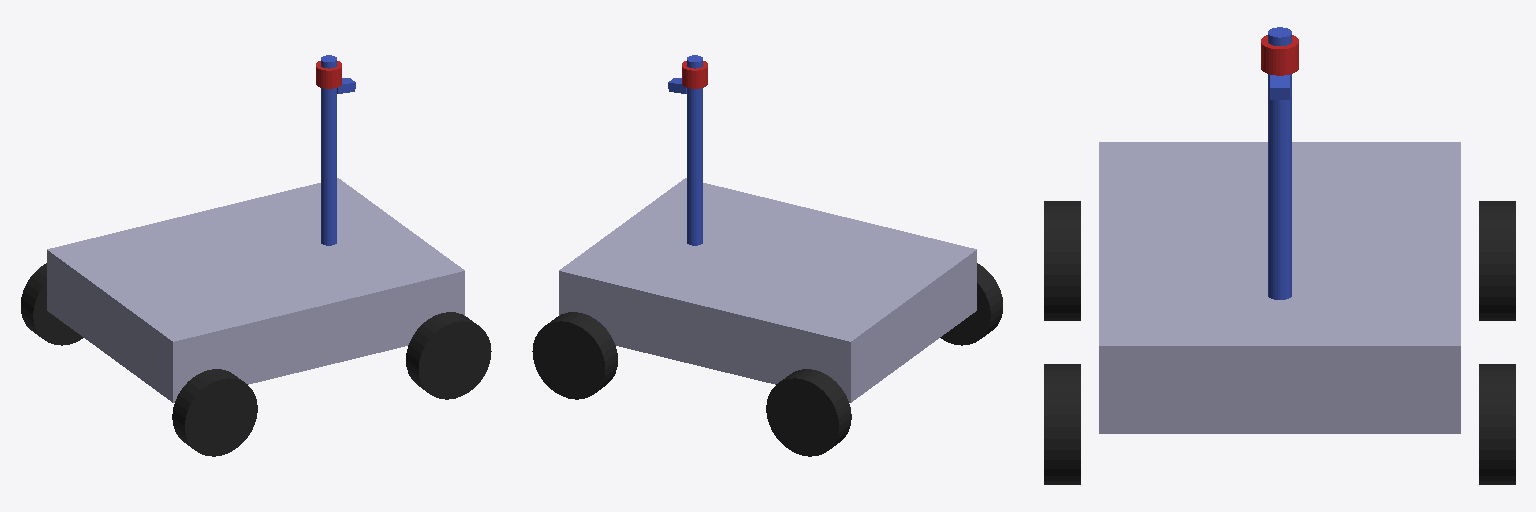
The robot description file, URDF, robot "nasa_lunar_rover":
<?xml version="1.0"?>
<robot name="nasa_lunar_rover">

  <!-- Materials -->
  <material name="rover_grey">
    <color rgba="0.7 0.7 0.8 1"/>
  </material>
  
  <material name="rover_blue">
    <color rgba="0.3 0.4 0.8 1"/>
  </material>
  
  <material name="wheel_black">
    <color rgba="0.2 0.2 0.2 1"/>
  </material>
  
  <material name="sensor_red">
    <color rgba="0.8 0.2 0.2 1"/>
  </material>

  <!-- Main Chassis -->
  <link name="base_link">
    <visual>
      <origin xyz="0 0 0.1" rpy="0 0 0"/>
      <geometry>
        <box size="2.0 1.5 0.4"/>
      </geometry>
      <material name="rover_grey"/>
    </visual>
    
    <collision>
      <origin xyz="0 0 0.1" rpy="0 0 0"/>
      <geometry>
        <box size="2.0 1.5 0.4"/>
      </geometry>
    </collision>
    
    <inertial>
      <origin xyz="0 0 0.1" rpy="0 0 0"/>
      <mass value="150"/>
      <inertia ixx="15.0" ixy="0" ixz="0" iyy="25.0" iyz="0" izz="35.0"/>
    </inertial>
  </link>

  <!-- Sensor Mast -->
  <link name="sensor_mast">
    <visual>
      <origin xyz="0 0 0.6" rpy="0 0 0"/>
      <geometry>
        <cylinder radius="0.05" length="1.2"/>
      </geometry>
      <material name="rover_blue"/>
    </visual>
    
    <collision>
      <origin xyz="0 0 0.6" rpy="0 0 0"/>
      <geometry>
        <cylinder radius="0.05" length="1.2"/>
      </geometry>
    </collision>
    
    <inertial>
      <origin xyz="0 0 0.6" rpy="0 0 0"/>
      <mass value="8"/>
      <inertia ixx="1.0" ixy="0" ixz="0" iyy="1.0" iyz="0" izz="0.1"/>
    </inertial>
  </link>

  <joint name="mast_joint" type="fixed">
    <parent link="base_link"/>
    <child link="sensor_mast"/>
    <origin xyz="0.5 0 0.3" rpy="0 0 0"/>
  </joint>

  <!-- LiDAR Sensor -->
  <link name="lidar_link">
    <visual>
      <origin xyz="0 0 0" rpy="0 0 0"/>
      <geometry>
        <cylinder radius="0.08" length="0.12"/>
      </geometry>
      <material name="sensor_red"/>
    </visual>
    
    <collision>
      <origin xyz="0 0 0" rpy="0 0 0"/>
      <geometry>
        <cylinder radius="0.08" length="0.12"/>
      </geometry>
    </collision>
    
    <inertial>
      <origin xyz="0 0 0" rpy="0 0 0"/>
      <mass value="2"/>
      <inertia ixx="0.1" ixy="0" ixz="0" iyy="0.1" iyz="0" izz="0.1"/>
    </inertial>
  </link>

  <joint name="lidar_joint" type="fixed">
    <parent link="sensor_mast"/>
    <child link="lidar_link"/>
    <origin xyz="0 0 1.1" rpy="0 0 0"/>
  </joint>

  <!-- RGB-D Camera -->
  <link name="camera_link">
    <visual>
      <origin xyz="0 0 0" rpy="0 0 0"/>
      <geometry>
        <box size="0.12 0.08 0.06"/>
      </geometry>
      <material name="rover_blue"/>
    </visual>
    
    <collision>
      <origin xyz="0 0 0" rpy="0 0 0"/>
      <geometry>
        <box size="0.12 0.08 0.06"/>
      </geometry>
    </collision>
    
    <inertial>
      <origin xyz="0 0 0" rpy="0 0 0"/>
      <mass value="1"/>
      <inertia ixx="0.05" ixy="0" ixz="0" iyy="0.05" iyz="0" izz="0.05"/>
    </inertial>
  </link>

  <joint name="camera_joint" type="fixed">
    <parent link="sensor_mast"/>
    <child link="camera_link"/>
    <origin xyz="0.1 0 1.0" rpy="0 0.1 0"/>
  </joint>

  <!-- IMU Sensor -->
  <link name="imu_link">
    <visual>
      <origin xyz="0 0 0" rpy="0 0 0"/>
      <geometry>
        <box size="0.04 0.04 0.02"/>
      </geometry>
      <material name="sensor_red"/>
    </visual>
    
    <inertial>
      <origin xyz="0 0 0" rpy="0 0 0"/>
      <mass value="0.1"/>
      <inertia ixx="0.001" ixy="0" ixz="0" iyy="0.001" iyz="0" izz="0.001"/>
    </inertial>
  </link>

  <joint name="imu_joint" type="fixed">
    <parent link="base_link"/>
    <child link="imu_link"/>
    <origin xyz="0 0 0.25" rpy="0 0 0"/>
  </joint>

  <!-- Wheels -->
  <link name="front_left_wheel">
    <visual>
      <origin xyz="0 0 0" rpy="1.5708 0 0"/>
      <geometry>
        <cylinder radius="0.25" length="0.15"/>
      </geometry>
      <material name="wheel_black"/>
    </visual>
    
    <collision>
      <origin xyz="0 0 0" rpy="1.5708 0 0"/>
      <geometry>
        <cylinder radius="0.25" length="0.15"/>
      </geometry>
    </collision>
    
    <inertial>
      <origin xyz="0 0 0" rpy="1.5708 0 0"/>
      <mass value="12"/>
      <inertia ixx="0.5" ixy="0" ixz="0" iyy="0.5" iyz="0" izz="0.5"/>
    </inertial>
  </link>

  <joint name="front_left_wheel_joint" type="continuous">
    <parent link="base_link"/>
    <child link="front_left_wheel"/>
    <origin xyz="0.8 0.9 -0.15" rpy="0 0 0"/>
    <axis xyz="0 1 0"/>
  </joint>

  <link name="front_right_wheel">
    <visual>
      <origin xyz="0 0 0" rpy="1.5708 0 0"/>
      <geometry>
        <cylinder radius="0.25" length="0.15"/>
      </geometry>
      <material name="wheel_black"/>
    </visual>
    
    <collision>
      <origin xyz="0 0 0" rpy="1.5708 0 0"/>
      <geometry>
        <cylinder radius="0.25" length="0.15"/>
      </geometry>
    </collision>
    
    <inertial>
      <origin xyz="0 0 0" rpy="1.5708 0 0"/>
      <mass value="12"/>
      <inertia ixx="0.5" ixy="0" ixz="0" iyy="0.5" iyz="0" izz="0.5"/>
    </inertial>
  </link>

  <joint name="front_right_wheel_joint" type="continuous">
    <parent link="base_link"/>
    <child link="front_right_wheel"/>
    <origin xyz="0.8 -0.9 -0.15" rpy="0 0 0"/>
    <axis xyz="0 1 0"/>
  </joint>

  <link name="rear_left_wheel">
    <visual>
      <origin xyz="0 0 0" rpy="1.5708 0 0"/>
      <geometry>
        <cylinder radius="0.25" length="0.15"/>
      </geometry>
      <material name="wheel_black"/>
    </visual>
    
    <collision>
      <origin xyz="0 0 0" rpy="1.5708 0 0"/>
      <geometry>
        <cylinder radius="0.25" length="0.15"/>
      </geometry>
    </collision>
    
    <inertial>
      <origin xyz="0 0 0" rpy="1.5708 0 0"/>
      <mass value="12"/>
      <inertia ixx="0.5" ixy="0" ixz="0" iyy="0.5" iyz="0" izz="0.5"/>
    </inertial>
  </link>

  <joint name="rear_left_wheel_joint" type="continuous">
    <parent link="base_link"/>
    <child link="rear_left_wheel"/>
    <origin xyz="-0.8 0.9 -0.15" rpy="0 0 0"/>
    <axis xyz="0 1 0"/>
  </joint>

  <link name="rear_right_wheel">
    <visual>
      <origin xyz="0 0 0" rpy="1.5708 0 0"/>
      <geometry>
        <cylinder radius="0.25" length="0.15"/>
      </geometry>
      <material name="wheel_black"/>
    </visual>
    
    <collision>
      <origin xyz="0 0 0" rpy="1.5708 0 0"/>
      <geometry>
        <cylinder radius="0.25" length="0.15"/>
      </geometry>
    </collision>
    
    <inertial>
      <origin xyz="0 0 0" rpy="1.5708 0 0"/>
      <mass value="12"/>
      <inertia ixx="0.5" ixy="0" ixz="0" iyy="0.5" iyz="0" izz="0.5"/>
    </inertial>
  </link>

  <joint name="rear_right_wheel_joint" type="continuous">
    <parent link="base_link"/>
    <child link="rear_right_wheel"/>
    <origin xyz="-0.8 -0.9 -0.15" rpy="0 0 0"/>
    <axis xyz="0 1 0"/>
  </joint>

  <!-- Gazebo Plugins -->
  
  <!-- Differential Drive Controller -->
  <gazebo>
    <plugin name="skid_steer_drive_controller" filename="libgazebo_ros_skid_steer_drive.so">
      <update_rate>50.0</update_rate>
      <robot_namespace>/</robot_namespace>
      <left_front_joint>front_left_wheel_joint</left_front_joint>
      <right_front_joint>front_right_wheel_joint</right_front_joint>
      <left_rear_joint>rear_left_wheel_joint</left_rear_joint>
      <right_rear_joint>rear_right_wheel_joint</right_rear_joint>
      <wheel_separation>1.8</wheel_separation>
      <wheel_diameter>0.5</wheel_diameter>
      <robot_base_frame>base_link</robot_base_frame>
      <max_wheel_torque>500</max_wheel_torque>
      <max_wheel_acceleration>15.0</max_wheel_acceleration>
      <command_topic>cmd_vel</command_topic>
      <publish_odom>true</publish_odom>
      <publish_odom_tf>true</publish_odom_tf>
      <publish_wheel_tf>false</publish_wheel_tf>
      <odometry_topic>odom</odometry_topic>
      <odometry_frame>odom</odometry_frame>
      <covariance_x>0.0001</covariance_x>
      <covariance_y>0.0001</covariance_y>
      <covariance_yaw>0.01</covariance_yaw>
    </plugin>
  </gazebo>

  <!-- LiDAR Plugin -->
  <gazebo reference="lidar_link">
    <sensor type="gpu_ray" name="lidar_sensor">
      <pose>0 0 0 0 0 0</pose>
      <visualize>true</visualize>
      <update_rate>20</update_rate>
      <ray>
        <scan>
          <horizontal>
            <samples>720</samples>
            <resolution>1</resolution>
            <min_angle>-3.14159</min_angle>
            <max_angle>3.14159</max_angle>
          </horizontal>
        </scan>
        <range>
          <min>0.10</min>
          <max>100.0</max>
          <resolution>0.01</resolution>
        </range>
        <noise>
          <type>gaussian</type>
          <mean>0.0</mean>
          <stddev>0.01</stddev>
        </noise>
      </ray>
      <plugin name="gazebo_ros_laser" filename="libgazebo_ros_ray_sensor.so">
        <ros>
          <remapping>~/out:=scan</remapping>
        </ros>
        <output_type>sensor_msgs/LaserScan</output_type>
      </plugin>
    </sensor>
  </gazebo>

  <!-- RGB-D Camera Plugin -->
  <gazebo reference="camera_link">
    <sensor type="depth" name="camera_sensor">
      <update_rate>20</update_rate>
      <camera>
        <horizontal_fov>1.3962634</horizontal_fov>
        <image>
          <width>640</width>
          <height>480</height>
          <format>R8G8B8</format>
        </image>
        <clip>
          <near>0.02</near>
          <far>300</far>
        </clip>
        <noise>
          <type>gaussian</type>
          <mean>0.0</mean>
          <stddev>0.007</stddev>
        </noise>
      </camera>
      <plugin name="gazebo_ros_depth_camera" filename="libgazebo_ros_camera.so">
        <ros>
          <remapping>~/image_raw:=camera/image_raw</remapping>
          <remapping>~/image_depth:=camera/depth/image_raw</remapping>
          <remapping>~/camera_info:=camera/camera_info</remapping>
          <remapping>~/camera_info_depth:=camera/depth/camera_info</remapping>
          <remapping>~/points:=camera/depth/points</remapping>
        </ros>
        <camera_name>camera</camera_name>
        <frame_name>camera_link</frame_name>
        <hack_baseline>0.07</hack_baseline>
        <min_depth>0.001</min_depth>
        <max_depth>300.0</max_depth>
      </plugin>
    </sensor>
  </gazebo>

  <!-- IMU Plugin -->
  <gazebo reference="imu_link">
    <sensor name="imu_sensor" type="imu">
      <update_rate>100</update_rate>
      <plugin filename="libgazebo_ros_imu_sensor.so" name="imu_plugin">
        <ros>
          <remapping>~/out:=imu</remapping>
        </ros>
        <initial_orientation_as_reference>false</initial_orientation_as_reference>
      </plugin>
    </sensor>
  </gazebo>

</robot>

--- Facts derived from the render (not from the file) ---
The picture shows the robot from 3 angles, left to right: view 1: azimuth 30°, elevation 25°; view 2: azimuth 150°, elevation 25°; view 3: azimuth 270°, elevation 25°; orthographic projection.
Robot: nasa_lunar_rover — 9 links, 8 joints (4 continuous, 4 fixed); root link base_link; default pose: every joint at zero.
Visible links, largest first — view 1: base_link, front_right_wheel, rear_right_wheel, sensor_mast, rear_left_wheel, lidar_link; view 2: base_link, front_left_wheel, rear_left_wheel, sensor_mast, rear_right_wheel, lidar_link; view 3: base_link, sensor_mast, front_left_wheel, front_right_wheel, rear_left_wheel, rear_right_wheel, lidar_link.
Link boxes in pixels (x1,y1,x2,y2): base_link: (47, 178, 464, 402); front_right_wheel: (406, 312, 491, 399); rear_right_wheel: (172, 369, 257, 456); sensor_mast: (321, 55, 336, 245); rear_left_wheel: (21, 263, 83, 345); lidar_link: (316, 61, 341, 88); base_link: (559, 178, 976, 402); front_left_wheel: (532, 312, 617, 399); rear_left_wheel: (766, 369, 851, 456); sensor_mast: (687, 55, 702, 245); rear_right_wheel: (940, 263, 1002, 345); lidar_link: (682, 61, 707, 88); base_link: (1099, 142, 1460, 433); sensor_mast: (1268, 27, 1291, 299); front_left_wheel: (1479, 364, 1515, 484); front_right_wheel: (1044, 364, 1080, 484); rear_left_wheel: (1479, 201, 1515, 320); rear_right_wheel: (1044, 201, 1080, 320); lidar_link: (1261, 35, 1298, 75).
Size in the robot's own frame: 2.1 by 1.95 by 1.9 metres.
Geometry: primitives only (box / cylinder / sphere), no mesh files.